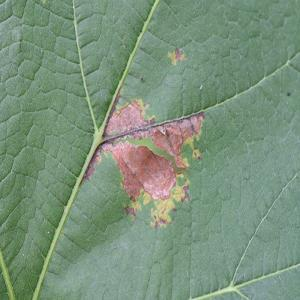Folha: (0, 0, 299, 299)
Fungo: (82, 96, 204, 229), (107, 138, 177, 202), (167, 46, 187, 66), (192, 148, 201, 161), (174, 46, 181, 62), (286, 92, 290, 96)
